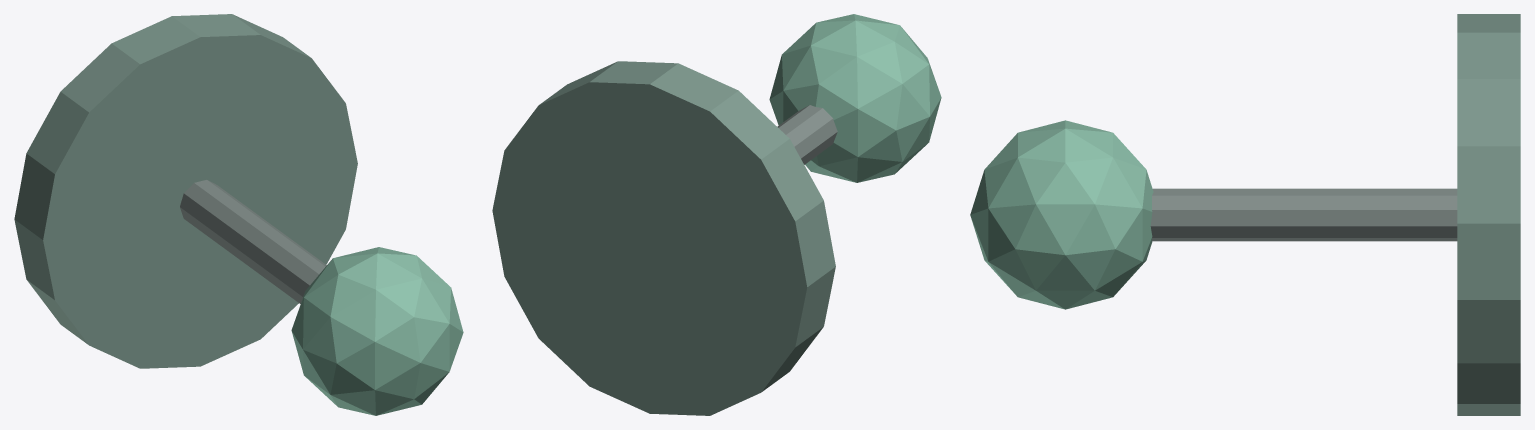
File: timeline-node-eco.glb
3 views of the same model, side by side, from view 1: azimuth 30°, elevation 25°; view 2: azimuth 150°, elevation 25°; view 3: azimuth 270°, elevation 25° (orthographic). The views are drawn at different scales.
Parts seen in each view (by area): view 1: base, world, stem; view 2: base, world, stem; view 3: world, base, stem.
Part boxes in pixels (x1,y1,x2,y2): base: (14, 14, 357, 368); world: (291, 247, 463, 415); stem: (180, 180, 326, 303); base: (492, 61, 835, 415); world: (769, 14, 941, 182); stem: (777, 105, 837, 164); world: (970, 120, 1153, 309); base: (1457, 14, 1520, 415); stem: (1150, 188, 1457, 241).
Bounding box in the file's own units: 0.76 × 0.76 × 1.04.
